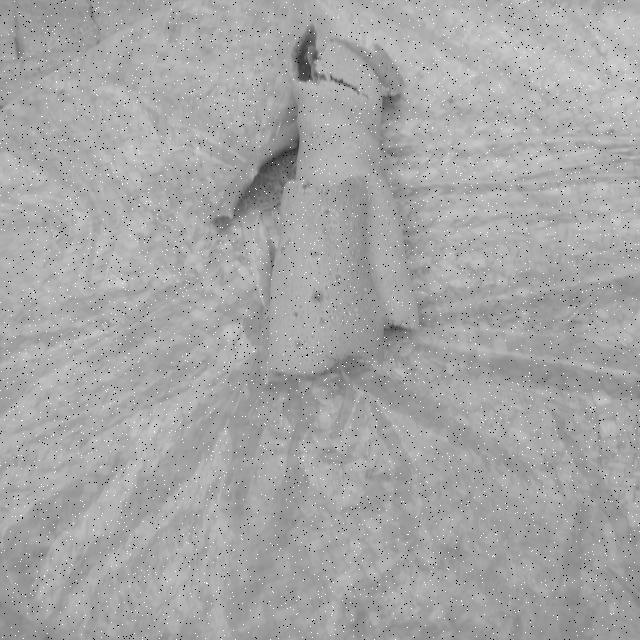injera_mold: (309, 288, 324, 308), (278, 236, 292, 256), (353, 173, 366, 188), (330, 272, 346, 284), (342, 141, 357, 153), (315, 316, 331, 326), (300, 183, 312, 195), (292, 338, 303, 351), (309, 248, 320, 260), (322, 208, 334, 218), (319, 227, 329, 237), (251, 168, 257, 183), (292, 224, 302, 232), (381, 85, 391, 92), (292, 310, 298, 318), (348, 210, 354, 218), (222, 201, 226, 210), (354, 237, 360, 243), (350, 260, 356, 266), (363, 286, 368, 293), (364, 268, 369, 274), (335, 211, 339, 217), (354, 308, 359, 312), (333, 180, 338, 183), (356, 313, 358, 318)
